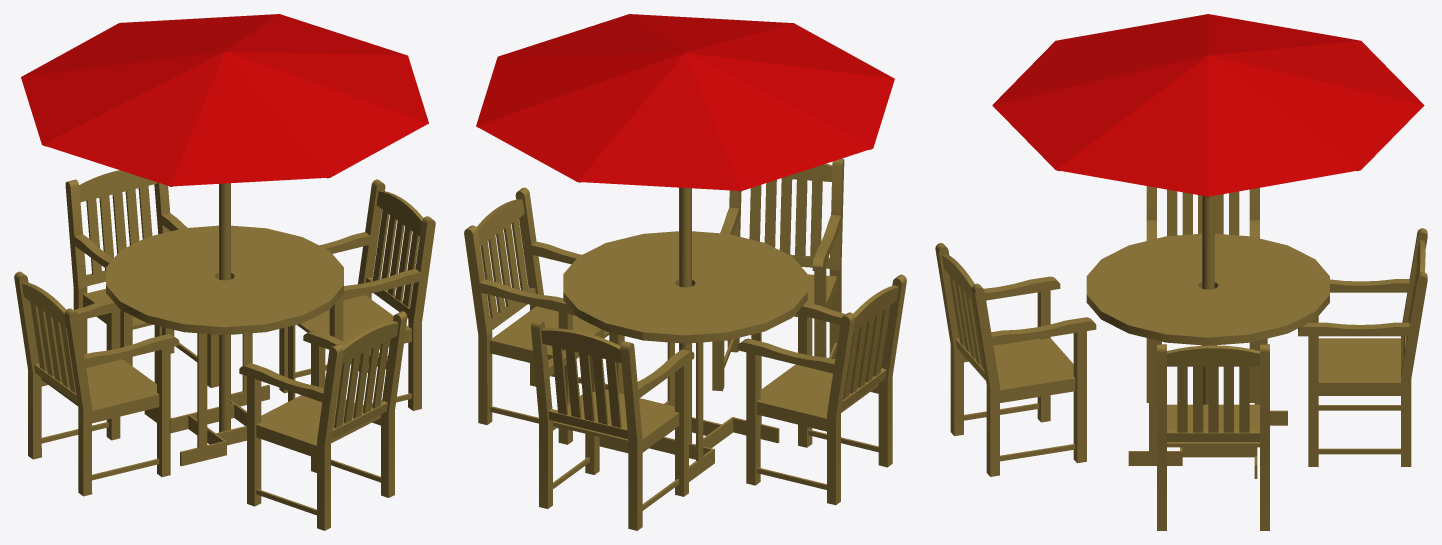
Rendered from RedUmbrella.fbx.
3 views of the same model, side by side, from view 1: azimuth 30°, elevation 25°; view 2: azimuth 150°, elevation 25°; view 3: azimuth 270°, elevation 25° (orthographic). The views are drawn at different scales.
Visible parts, largest first — view 1: Model, Chair4, Side6, Side7, Chair3, Chair1, Chair2, Side1, Side5, Side8, Side4, Side2 (+5 smaller); view 2: Model, Chair2, Side5, Chair3, Side4, Chair1, Side2, Chair4, Side6, Side3, Side7, Side1 (+5 smaller); view 3: Model, Chair1, Side8, Side3, Chair4, Chair2, Side7, Side4, Chair3, Side1, Side2, Leg2 (+3 smaller).
Boxes of the visible parts, left/top/right/bottom form: Model: left=21, top=14, right=428, bottom=432; Chair4: left=256, top=321, right=398, bottom=449; Side6: left=64, top=308, right=179, bottom=496; Side7: left=239, top=344, right=343, bottom=530; Chair3: left=22, top=282, right=159, bottom=414; Chair1: left=297, top=190, right=423, bottom=342; Chair2: left=79, top=170, right=157, bottom=329; Side1: left=329, top=216, right=435, bottom=410; Side5: left=14, top=271, right=120, bottom=459; Side8: left=303, top=311, right=407, bottom=497; Side4: left=65, top=179, right=132, bottom=365; Side2: left=279, top=179, right=385, bottom=393; Model: left=476, top=14, right=894, bottom=443; Chair2: left=541, top=328, right=679, bottom=443; Side5: left=737, top=312, right=855, bottom=505; Chair3: left=756, top=285, right=898, bottom=422; Side4: left=620, top=341, right=694, bottom=530; Chair1: left=476, top=199, right=609, bottom=358; Side2: left=464, top=225, right=576, bottom=444; Chair4: left=749, top=163, right=837, bottom=316; Side6: left=796, top=274, right=906, bottom=467; Side3: left=531, top=319, right=604, bottom=508; Side7: left=812, top=158, right=844, bottom=359; Side1: left=515, top=187, right=624, bottom=393; Model: left=992, top=14, right=1424, bottom=404; Chair1: left=1167, top=345, right=1259, bottom=447; Side8: left=971, top=283, right=1096, bottom=476; Side3: left=1298, top=272, right=1427, bottom=466; Chair4: left=942, top=254, right=1075, bottom=393; Chair2: left=1318, top=240, right=1425, bottom=386; Side7: left=935, top=243, right=1060, bottom=436; Side4: left=1310, top=228, right=1427, bottom=410; Chair3: left=1167, top=189, right=1239, bottom=236; Side1: left=1157, top=344, right=1166, bottom=530; Side2: left=1260, top=344, right=1269, bottom=530; Leg2: left=1128, top=338, right=1182, bottom=465.
Bounding box in the file's own units: 2.16 × 2.12 × 2.43.
